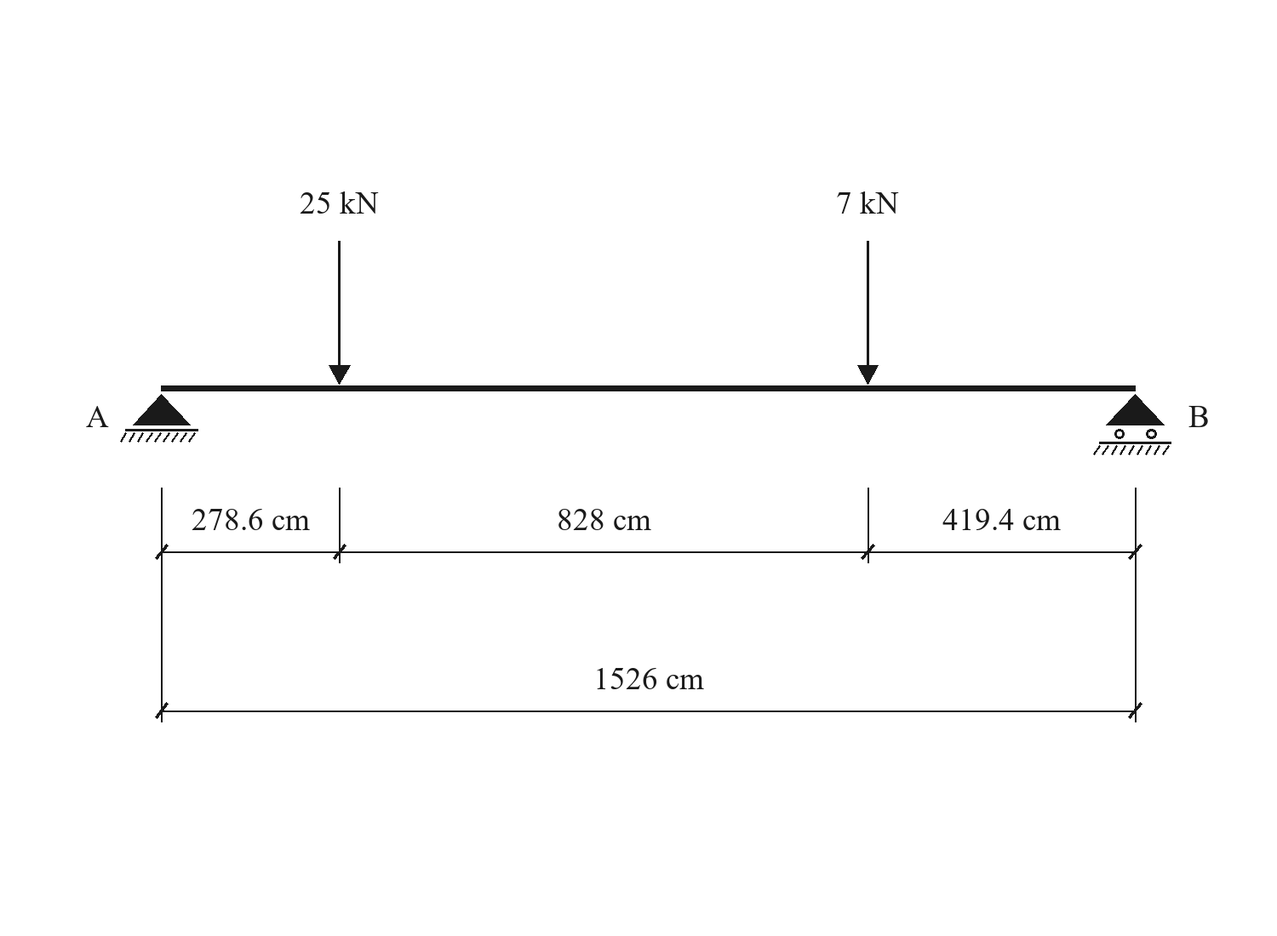pin_support: (120, 394, 198, 442)
point_load: (329, 241, 351, 385), (857, 241, 879, 385)
roller_support: (1093, 394, 1171, 455)
